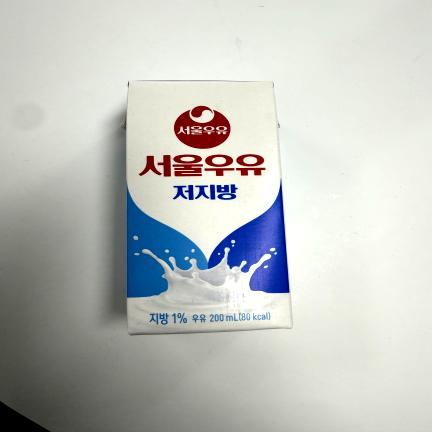milk_blue: (125, 81, 292, 334)
